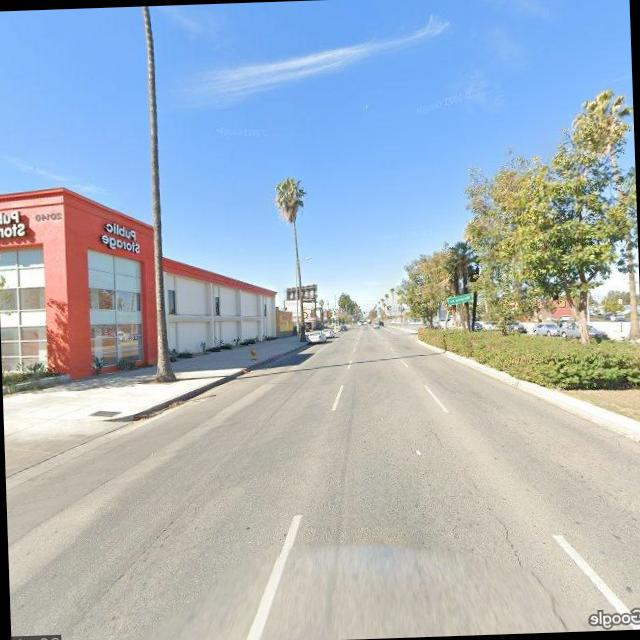crack: (489, 498, 570, 632), (426, 417, 456, 458)
